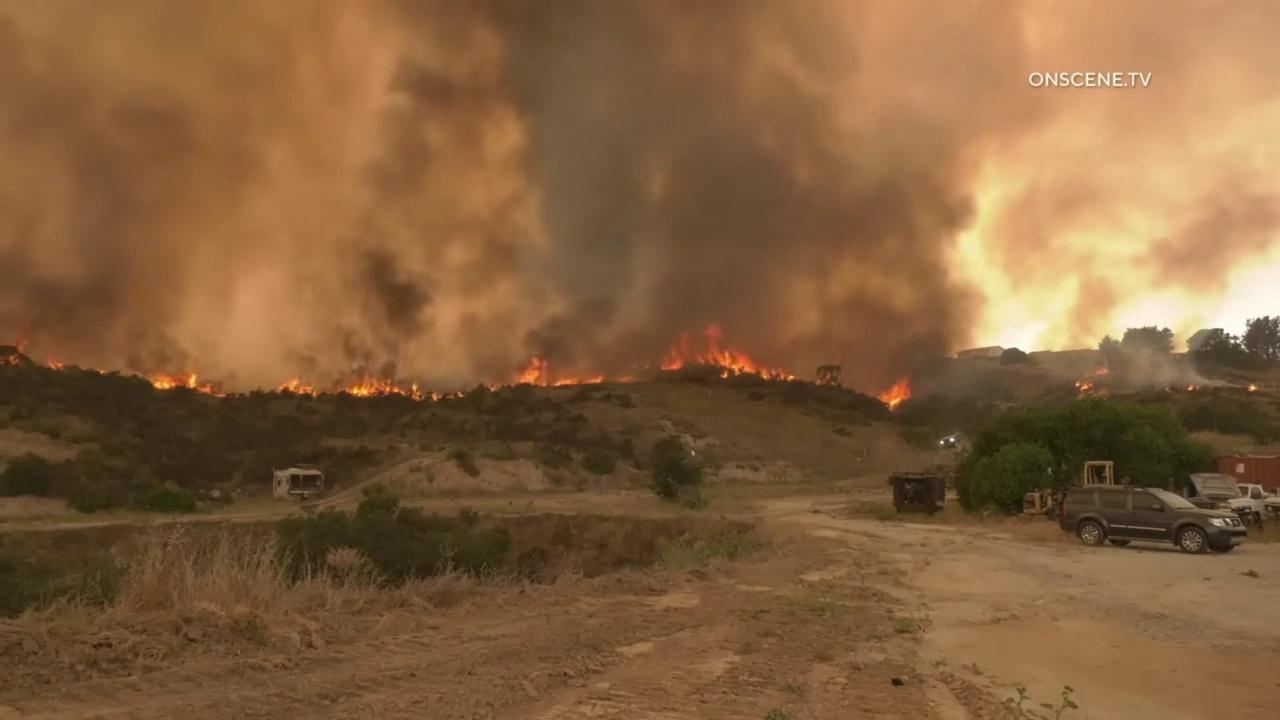fire: (660, 324, 794, 383), (344, 372, 425, 402), (152, 373, 226, 398), (879, 375, 911, 412), (515, 356, 547, 387), (280, 377, 321, 399), (554, 376, 578, 387), (15, 336, 29, 354), (1075, 380, 1094, 392), (816, 372, 832, 386), (48, 357, 64, 370), (584, 375, 604, 385), (431, 390, 444, 402), (616, 375, 634, 383), (446, 392, 464, 400), (9, 355, 20, 366), (1186, 384, 1200, 392), (1096, 368, 1109, 376), (720, 370, 728, 380), (1248, 384, 1257, 392), (97, 368, 105, 374), (490, 387, 495, 392)
smoke: (0, 0, 1280, 413)
